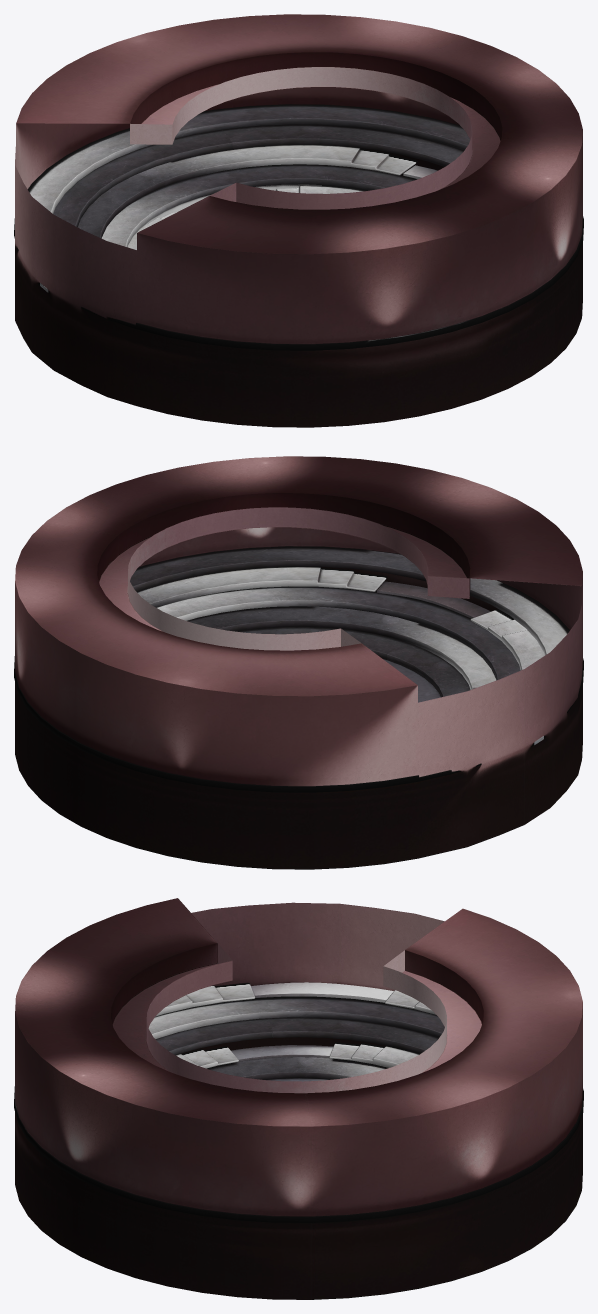
Rendered from vr_theater.glb.
3 renders of one model, top to bottom at view 1: azimuth 30°, elevation 25°; view 2: azimuth 150°, elevation 25°; view 3: azimuth 270°, elevation 25°, orthographic.
Parts seen in each view (by area): view 1: wall_ext, stairs, floor; view 2: wall_ext, stairs, white_stairs, floor; view 3: wall_ext, stairs, white_stairs.
Boxes of the visible parts, left/top/right/bottom form: wall_ext: left=15, top=14, right=582, bottom=427; stairs: left=14, top=104, right=583, bottom=350; floor: left=146, top=184, right=321, bottom=223; wall_ext: left=15, top=456, right=582, bottom=869; stairs: left=14, top=546, right=583, bottom=792; white_stairs: left=376, top=581, right=543, bottom=744; floor: left=383, top=659, right=440, bottom=702; wall_ext: left=15, top=898, right=582, bottom=1299; stairs: left=14, top=983, right=583, bottom=1222; white_stairs: left=231, top=982, right=393, bottom=1061.
Bounding box in the file's own units: 29.48 × 9.86 × 29.38.
Materials: 4 (4 with a texture image).
